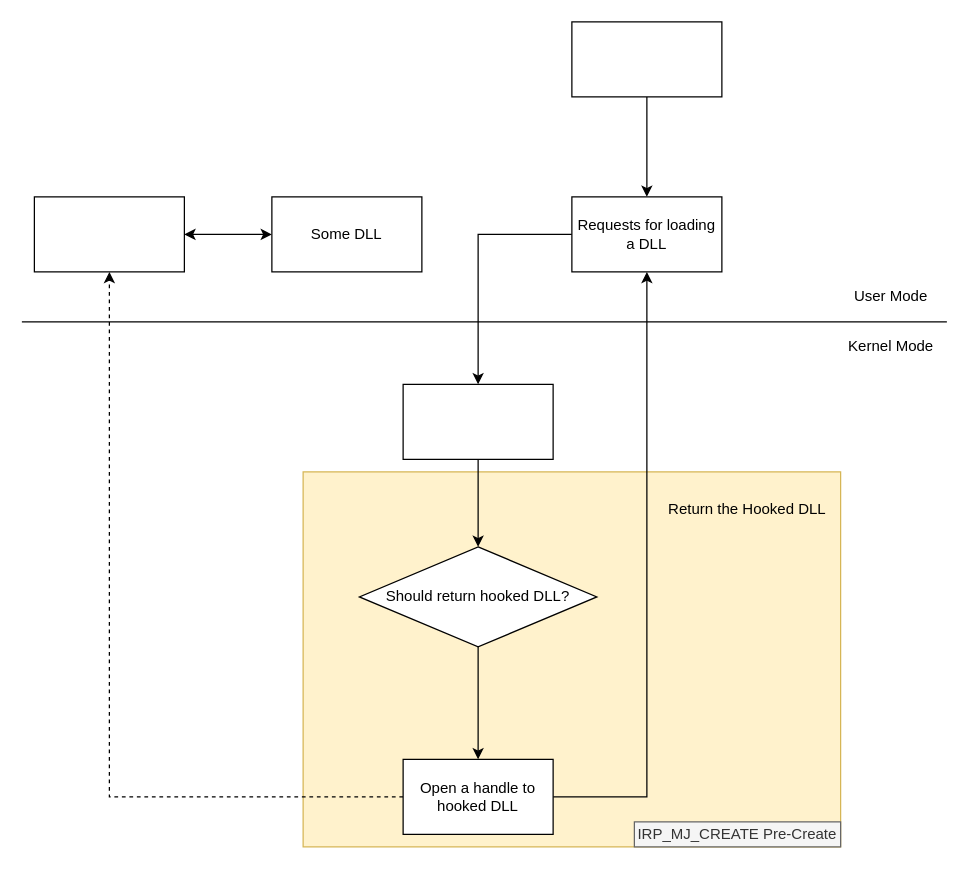
Some shapes in this 970 by 869 pixel diagram are drawn without their labels. Each missing label, with the box of its shape:
Hooked DLL: (33, 196, 184, 272)
Monitor DLL loading requests: (402, 383, 553, 459)
Some Application: (571, 21, 722, 97)
